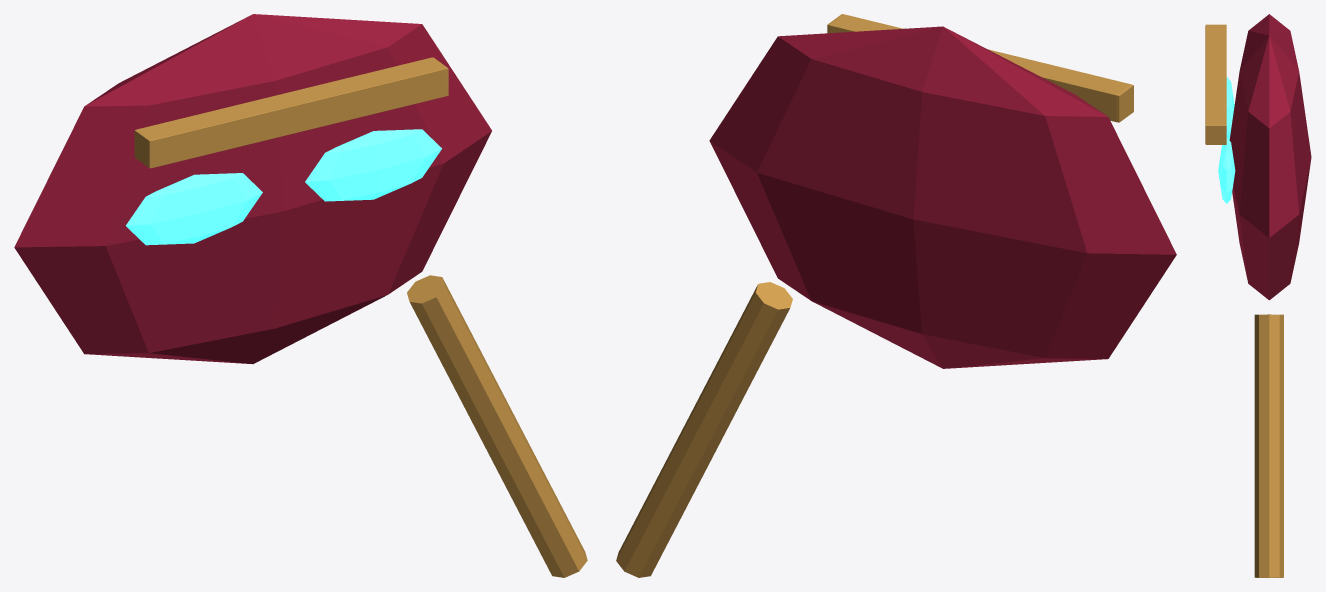
Rendered from prop_mask.glb.
3 renders of one model, left to right at view 1: azimuth 30°, elevation 25°; view 2: azimuth 150°, elevation 25°; view 3: azimuth 270°, elevation 25°, orthographic. The views are drawn at different scales.
Visible parts, largest first — view 1: mask_face, mask_handle, mask_brow, mask_eye_right, mask_eye_left; view 2: mask_face, mask_handle, mask_brow; view 3: mask_face, mask_handle, mask_brow, mask_eye_right, mask_eye_left.
Part boxes in pixels (x1,y1,x2,y2): mask_face: (14, 14, 491, 364); mask_handle: (407, 275, 587, 577); mask_brow: (134, 57, 448, 168); mask_eye_right: (305, 129, 441, 201); mask_eye_left: (126, 173, 262, 245); mask_face: (709, 26, 1176, 368); mask_handle: (616, 282, 792, 577); mask_brow: (827, 14, 1133, 122); mask_face: (1229, 14, 1311, 300); mask_handle: (1254, 314, 1283, 577); mask_brow: (1205, 24, 1226, 144); mask_eye_right: (1218, 137, 1235, 203); mask_eye_left: (1226, 77, 1234, 139).
Size of the model in its own units: 1.72 by 1.83 by 0.3984.
